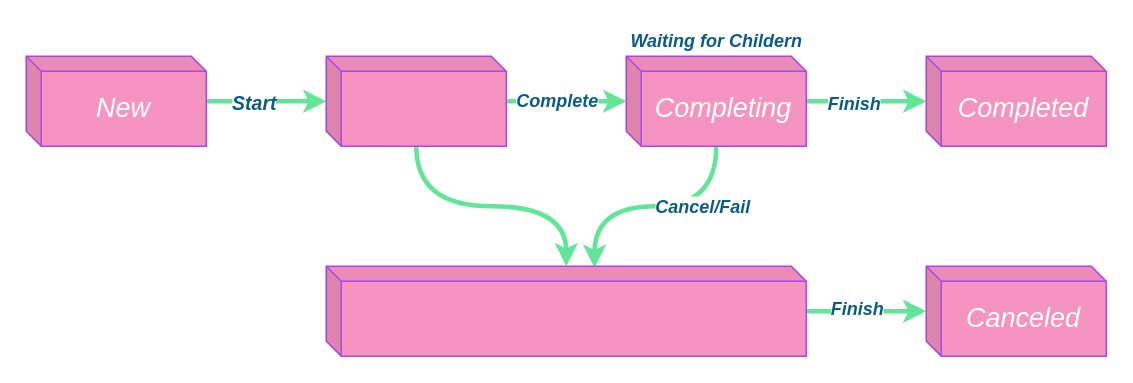
The diagram is 1133 pixels wide and 383 high, and some of its shapes have lost their labels. Each missing label, with the centre of its shape:
Active: the point at 415,100
Cancelling: the point at 565,310
